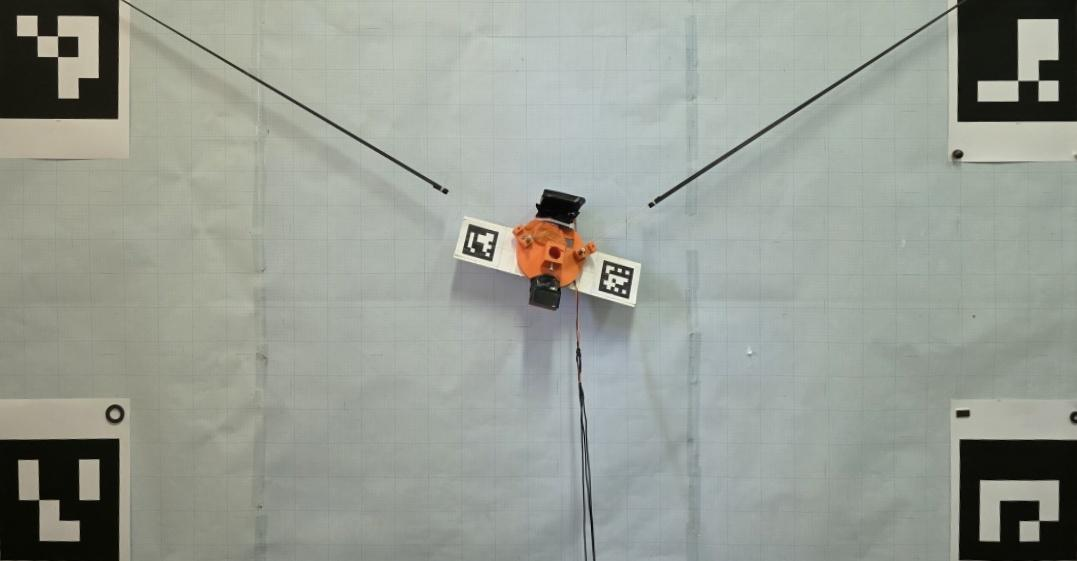robot: (510, 189, 598, 312)
